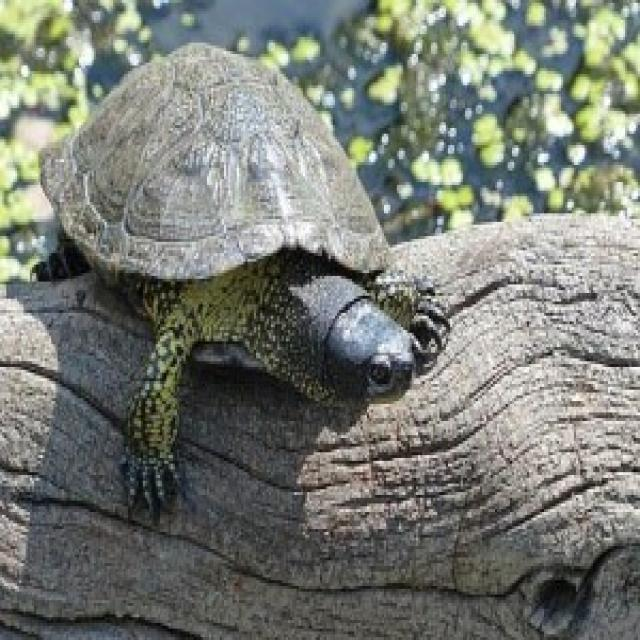Sea turtle: (0, 54, 476, 485)
